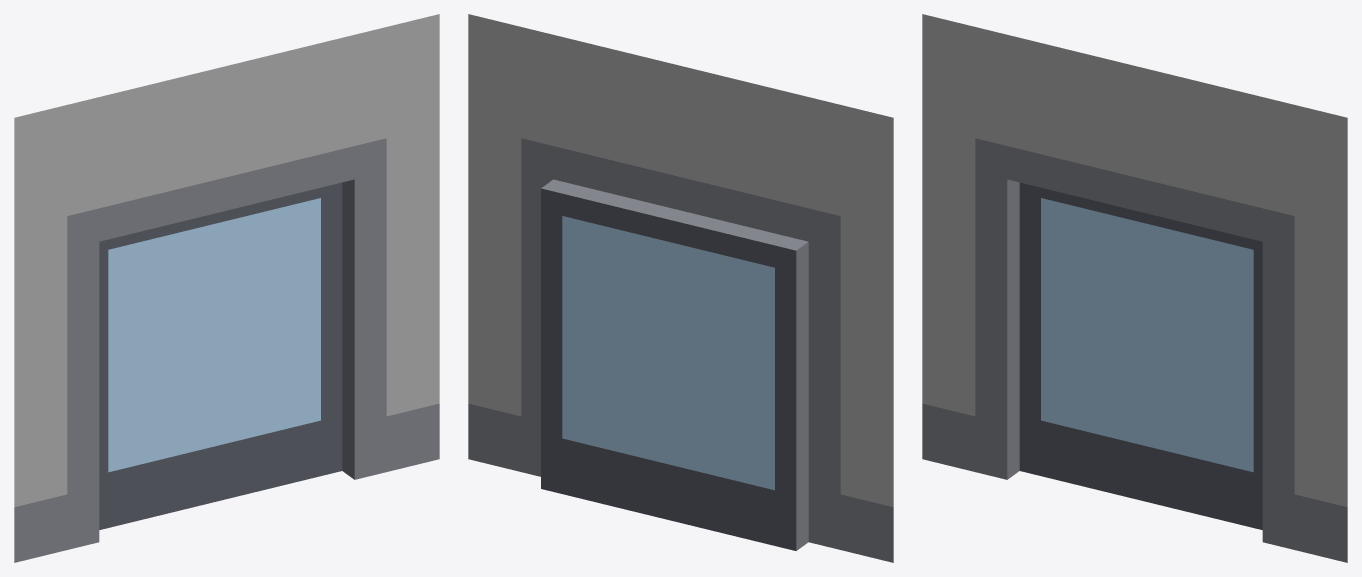
The model's file is wall_windowE.fbx.
The picture shows the model from 3 angles, left to right: view 1: azimuth 30°, elevation 25°; view 2: azimuth 150°, elevation 25°; view 3: azimuth 330°, elevation 25°; orthographic projection.
Visible parts, largest first — view 1: wall_windowE; view 2: wall_windowE; view 3: wall_windowE.
Part boxes in pixels (x1,y1,x2,y2): wall_windowE: [14, 14, 439, 562]; wall_windowE: [468, 14, 893, 562]; wall_windowE: [922, 14, 1347, 562].
Size of the model in its own units: 4 by 4 by 0.2.
